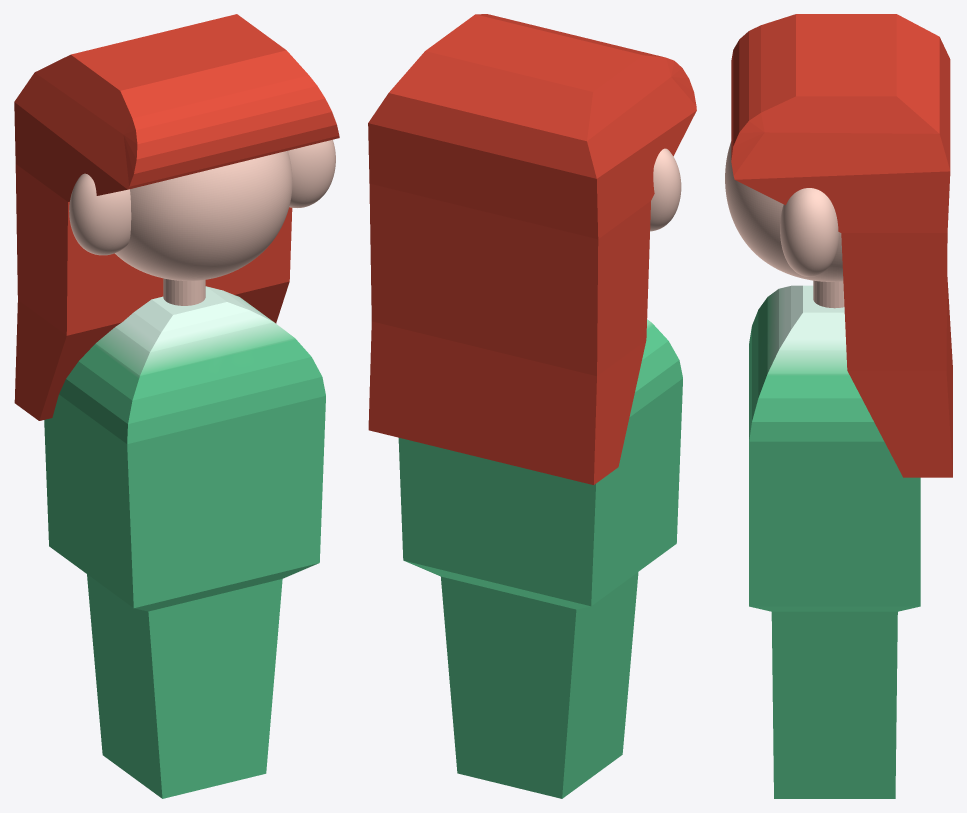
Rendered from Tutorial_NPC.fbx.
3 renders of one model, left to right at view 1: azimuth 30°, elevation 25°; view 2: azimuth 150°, elevation 25°; view 3: azimuth 270°, elevation 25°, orthographic.
Parts seen in each view (by area): view 1: Cube.001; view 2: Cube.001; view 3: Cube.001.
Boxes of the visible parts, bbox=[...] form: Cube.001: bbox=[14, 14, 339, 798]; Cube.001: bbox=[368, 14, 696, 798]; Cube.001: bbox=[725, 14, 952, 798].
Size of the model in its own units: 178 by 463 by 133.
